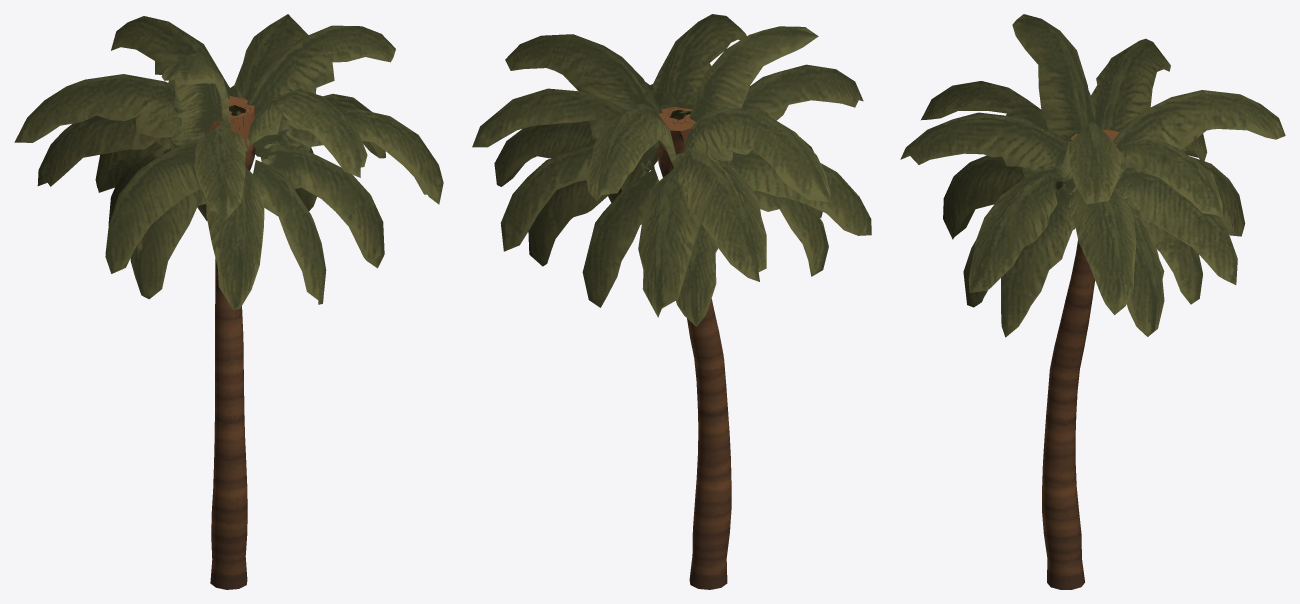
The model's file is palm_b.glb.
3 views of the same model, side by side, from view 1: azimuth 30°, elevation 25°; view 2: azimuth 150°, elevation 25°; view 3: azimuth 270°, elevation 25° (orthographic). The views are drawn at different scales.
Parts seen in each view (by area): view 1: body; view 2: body; view 3: body.
Boxes of the visible parts, x1,y1,x2,y2 form: body: [14, 14, 443, 589]; body: [472, 14, 871, 589]; body: [900, 14, 1285, 589].
Bounding box in the file's own units: 4.45 × 6.64 × 4.33.
2 materials, 2 textured.
